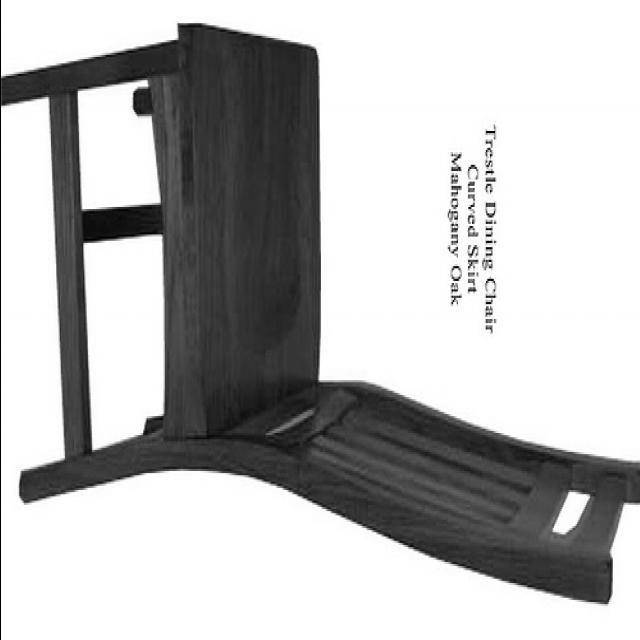chair: (1, 19, 640, 615)
